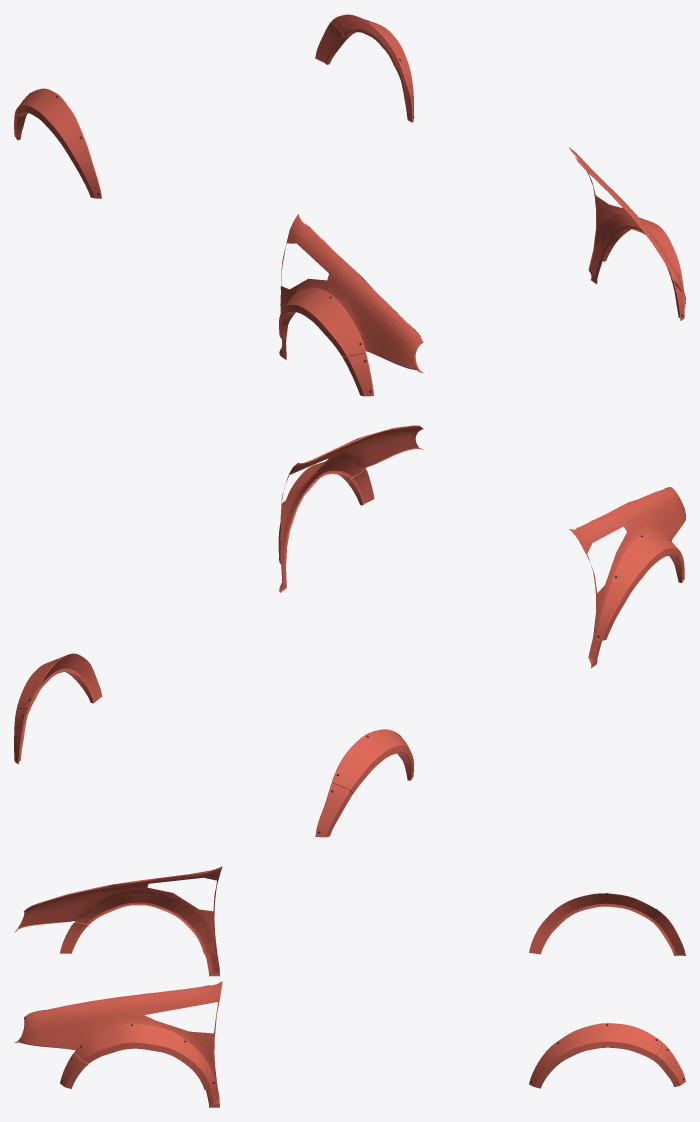
Rendered from wendtStrom_fenders_voomeran.glb.
The picture shows the model from 3 angles, top to bottom: view 1: azimuth 30°, elevation 25°; view 2: azimuth 150°, elevation 25°; view 3: azimuth 270°, elevation 25°; orthographic projection. The views are drawn at different scales.
Visible parts, largest first — view 1: fenders_voomeran; view 2: fenders_voomeran; view 3: fenders_voomeran.
Boxes of the visible parts, x1,y1,x2,y2 form: fenders_voomeran: (14,14,685,396); fenders_voomeran: (14,425,685,837); fenders_voomeran: (14,866,685,1107).
Bounding box in the file's own units: 1.89 × 0.7004 × 3.61.
